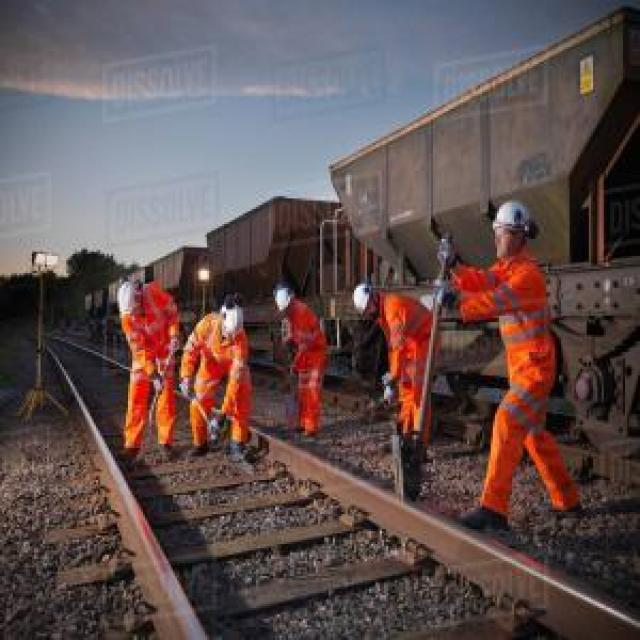danger: (445, 194, 583, 525), (361, 286, 435, 467), (116, 275, 182, 461), (180, 300, 253, 462), (273, 284, 329, 442)
rail: (29, 326, 640, 635)
